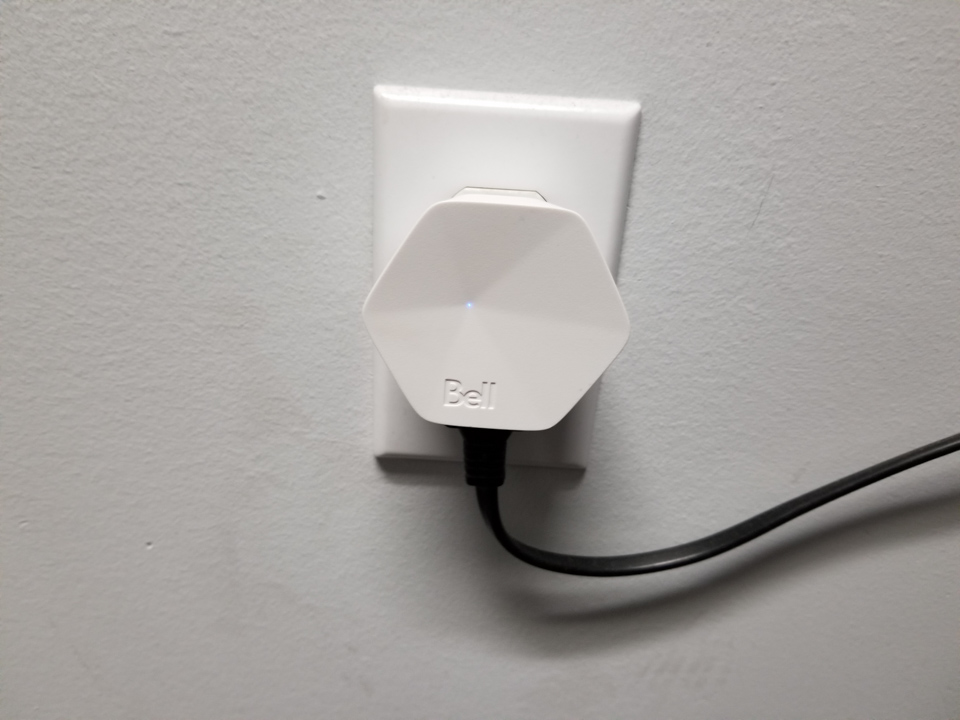pod: (358, 190, 636, 436)
